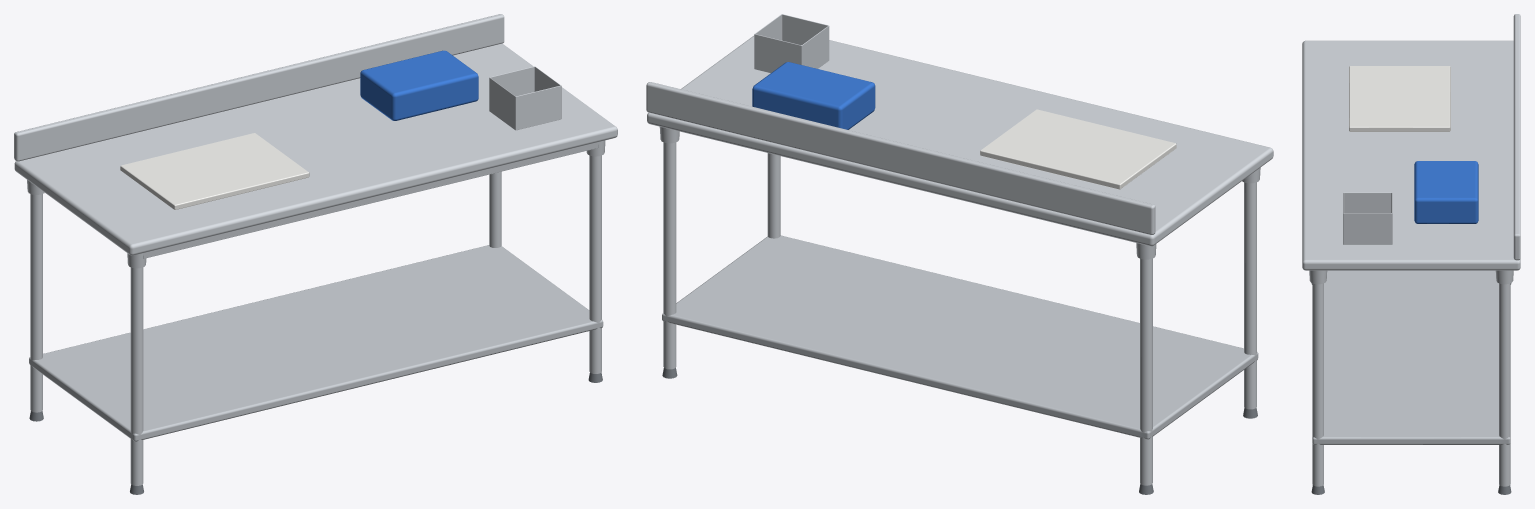
The model's file is prep-table.glb.
3 views of the same model, side by side, from view 1: azimuth 30°, elevation 25°; view 2: azimuth 150°, elevation 25°; view 3: azimuth 270°, elevation 25° (orthographic). The views are drawn at different scales.
Parts seen in each view (by area): view 1: BODY, PROPS; view 2: BODY, PROPS; view 3: BODY, PROPS.
Boxes of the visible parts, left/top/right/bottom form: BODY: left=14, top=14, right=617, bottom=494; PROPS: left=120, top=50, right=478, bottom=210; BODY: left=646, top=14, right=1273, bottom=494; PROPS: left=752, top=62, right=1176, bottom=189; BODY: left=1302, top=14, right=1520, bottom=494; PROPS: left=1349, top=66, right=1478, bottom=223.
Size of the model in its own units: 1.8 by 1.02 by 0.75.
